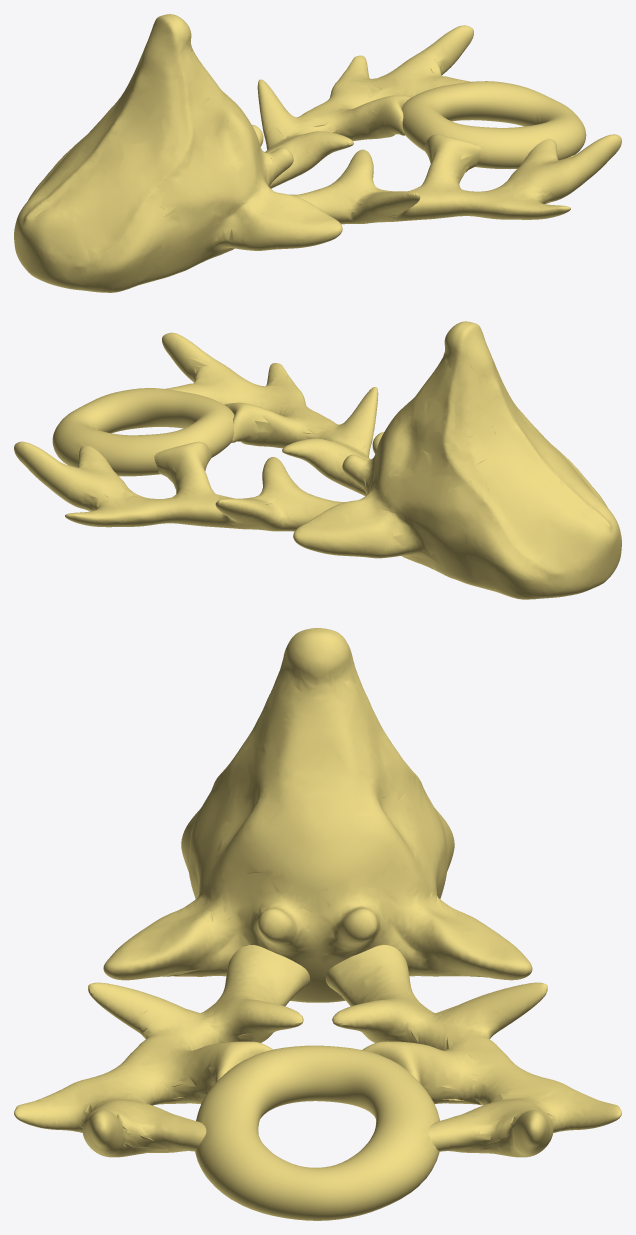
Rendered from geyik.glb.
The picture shows the model from 3 angles, top to bottom: view 1: azimuth 30°, elevation 25°; view 2: azimuth 150°, elevation 25°; view 3: azimuth 270°, elevation 25°; orthographic projection. The views are drawn at different scales.
Visible parts, largest first — view 1: Renderer Node; view 2: Renderer Node; view 3: Renderer Node.
Boxes of the visible parts, x1,y1,x2,y2 form: Renderer Node: (14,14,621,292); Renderer Node: (14,321,621,599); Renderer Node: (14,628,621,1220).
Bounding box in the file's own units: 44.31 × 17.52 × 29.05.
